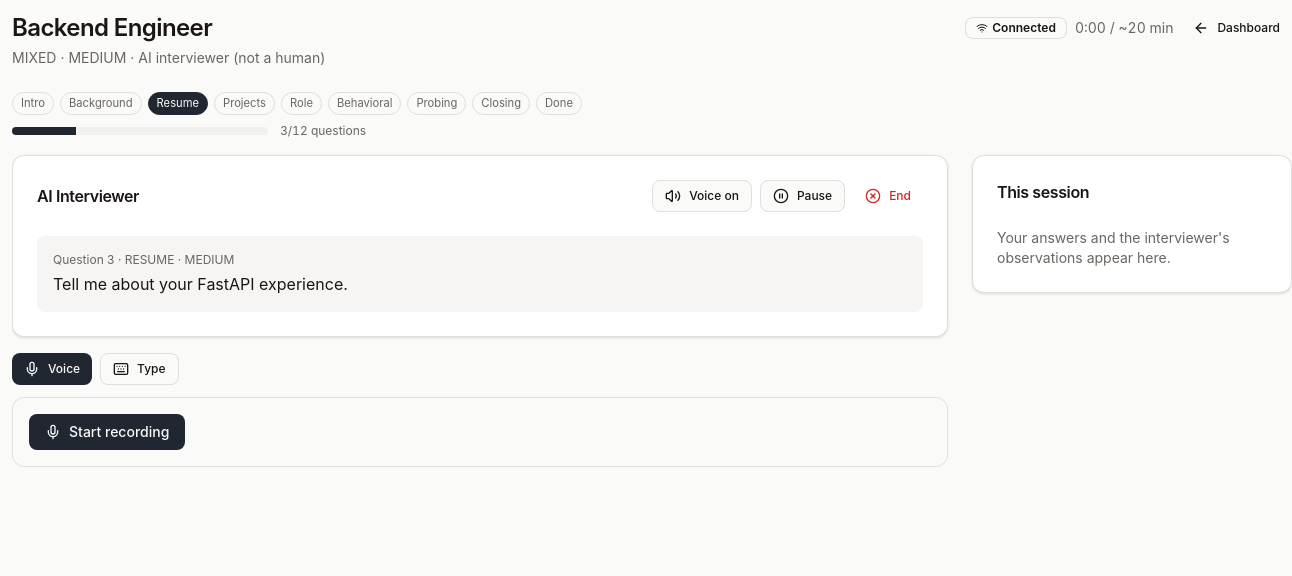
Scenario: InterviewRoomPage › submits a typed answer and renders the interviewer observation + next question
Check: the text "Tell me about your FastAPI experience." is shown, box [53,274,348,294]
Click the button "Type" at (139, 369), box [100,353,179,385]
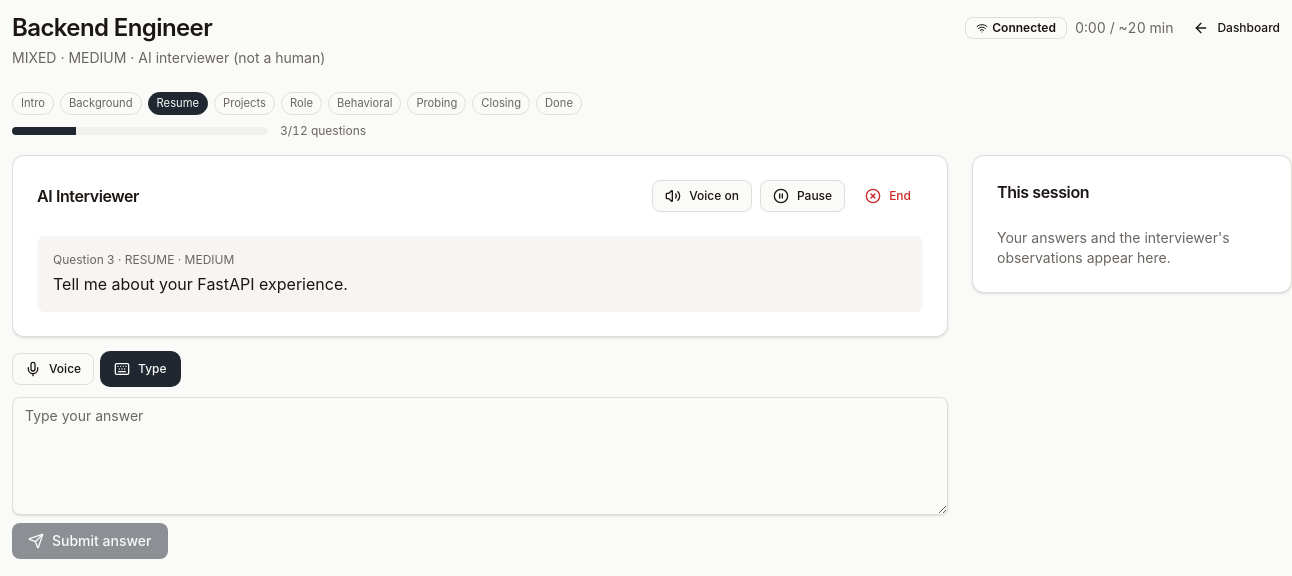
Type "I built the API layer." into the text box named "Typed answer" at (480, 456), box [12,397,948,515]
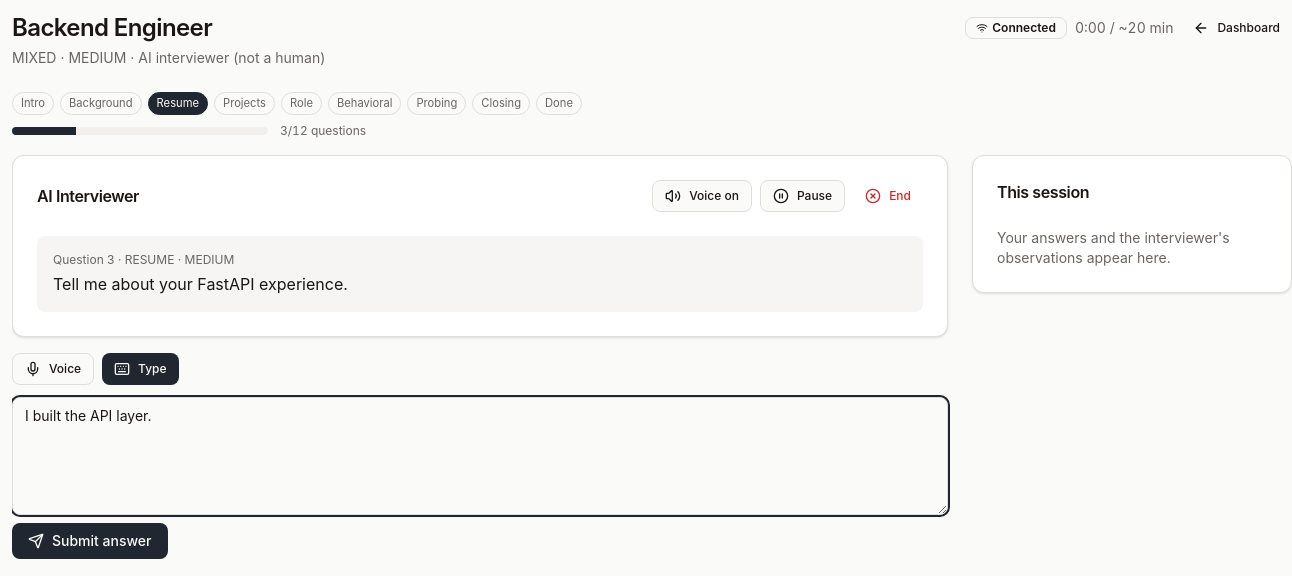
Click the button "Submit answer" at (90, 541), box [12,523,168,559]
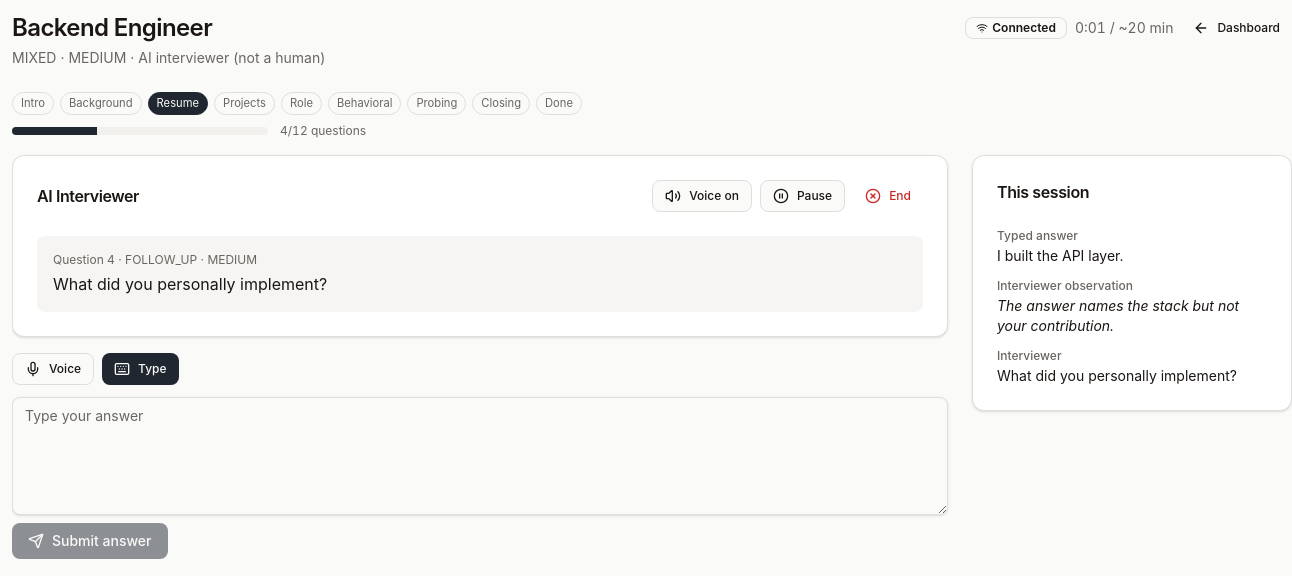
Check: the text "The answer names the stack but not your contribution." is shown, box [997,296,1267,336]
Check: the text "What did you personally implement?" below "FOLLOW_UP" is shown, box [53,274,327,294]
